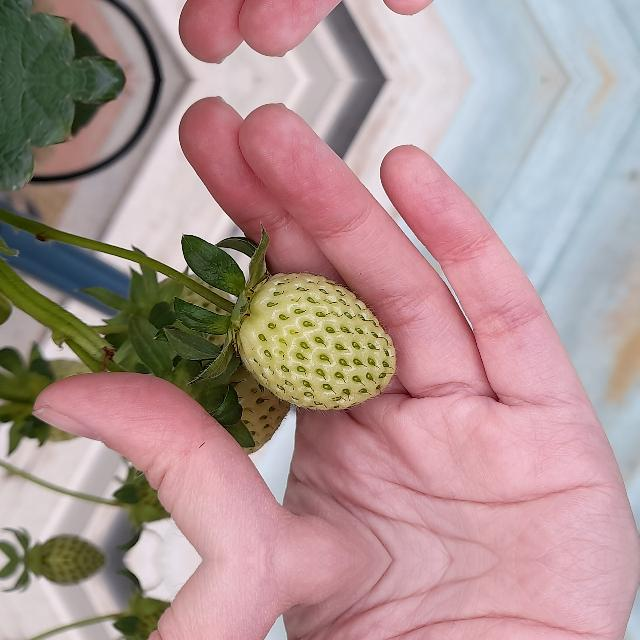Health_25: (237, 272, 395, 410)
